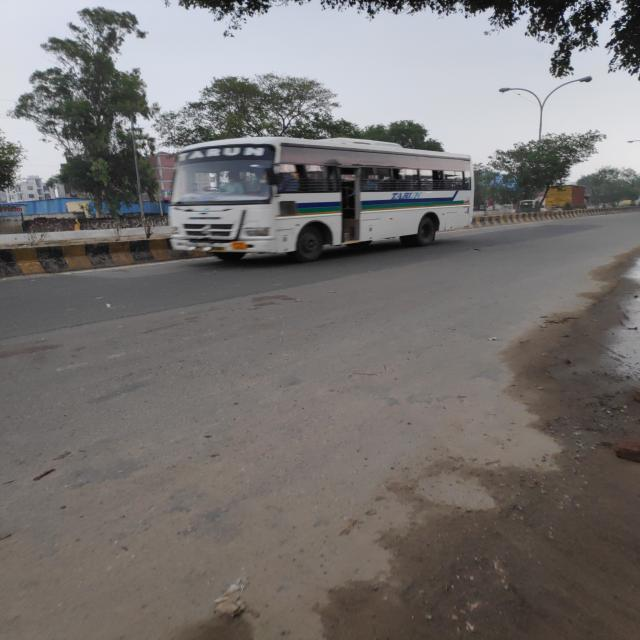Bus: (152, 112, 558, 272)
